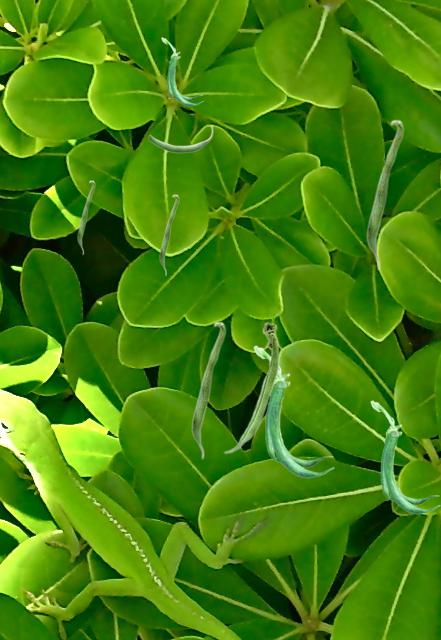french_bean: (253, 345, 333, 477), (370, 400, 439, 513), (223, 321, 278, 453), (366, 119, 403, 270), (191, 321, 225, 459), (161, 37, 202, 105), (148, 125, 212, 152), (159, 194, 178, 275), (77, 180, 94, 254)
